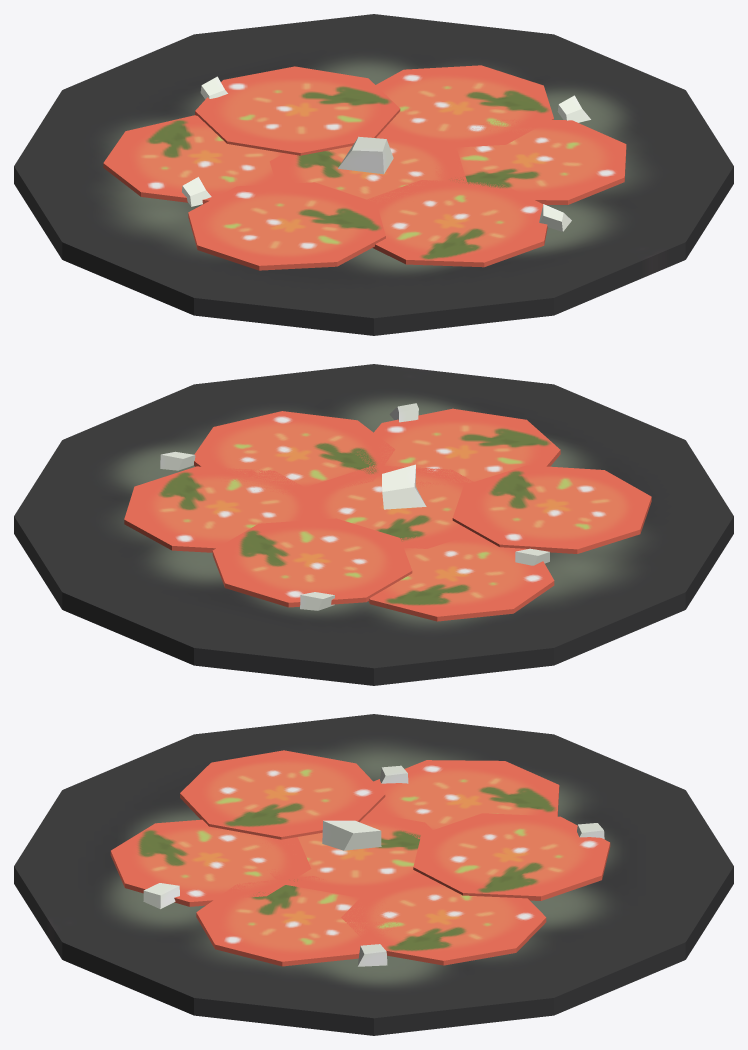
Rendered from carpaccio.glb.
The picture shows the model from 3 angles, top to bottom: view 1: azimuth 30°, elevation 25°; view 2: azimuth 150°, elevation 25°; view 3: azimuth 270°, elevation 25°; orthographic projection.
Parts seen in each view (by area): view 1: Cylinder.005, Cylinder.013, Cylinder.004, Cylinder.014, Cylinder.002, Cylinder.001, Cylinder.012, Cylinder, Cube.013, Cube.016, Cube.015, Cube.014; view 2: Cylinder.005, Cylinder.013, Cylinder.004, Cylinder.001, Cylinder.002, Cylinder.012, Cylinder.014, Cylinder, Cube.013, Cube.015, Cube.017; view 3: Cylinder.005, Cylinder.004, Cylinder.013, Cylinder.002, Cylinder.014, Cylinder.001, Cylinder.012, Cylinder, Cube.013, Cube.016, Cube.015.
Part boxes in pixels (box(x1,y1,x2,y2)): Cylinder.005: box(14, 14, 733, 335); Cylinder.013: box(188, 182, 385, 270); Cylinder.004: box(195, 66, 400, 155); Cylinder.014: box(367, 180, 547, 267); Cylinder.002: box(376, 65, 553, 148); Cylinder.001: box(436, 119, 626, 204); Cylinder.012: box(103, 115, 283, 204); Cylinder: box(269, 130, 467, 202); Cube.013: box(338, 136, 393, 174); Cube.016: box(539, 204, 571, 231); Cube.015: box(557, 95, 590, 122); Cube.014: box(182, 177, 211, 206); Cylinder.005: box(14, 364, 733, 685); Cylinder.013: box(452, 465, 651, 553); Cylinder.004: box(212, 518, 412, 607); Cylinder.001: box(194, 411, 395, 496); Cylinder.002: box(124, 466, 309, 552); Cylinder.012: box(368, 533, 554, 621); Cylinder.014: box(357, 408, 560, 486); Cylinder: box(301, 465, 474, 548); Cube.013: box(382, 464, 426, 509); Cube.015: box(160, 451, 195, 470); Cube.017: box(300, 592, 334, 610); Cylinder.005: box(14, 714, 733, 1035); Cylinder.004: box(413, 813, 610, 900); Cylinder.013: box(180, 750, 385, 839); Cylinder.002: box(341, 879, 546, 965); Cylinder.014: box(110, 819, 311, 906); Cylinder.001: box(196, 876, 398, 966); Cylinder.012: box(368, 760, 559, 838); Cylinder: box(262, 812, 432, 896); Cube.013: box(322, 820, 381, 850); Cube.016: box(143, 883, 179, 909); Cube.015: box(357, 944, 387, 966).
Size of the model in its own units: 1.22 by 0.1027 by 1.22.
1 material, 1 textured.
